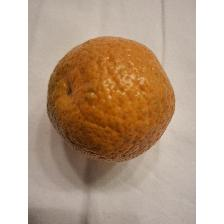Mandarine: (42, 34, 178, 163)
